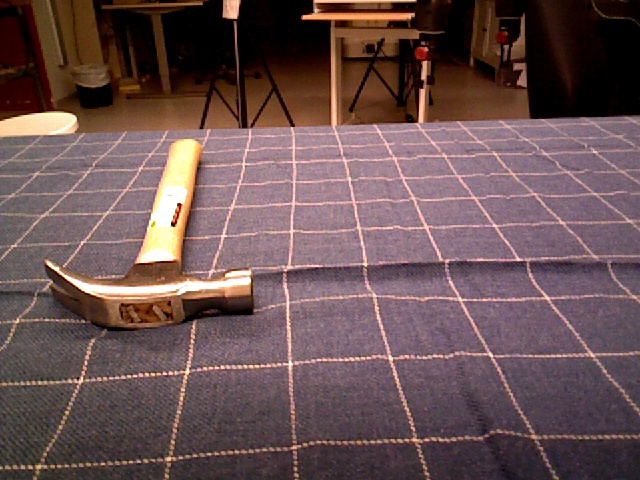hammer1: (42, 140, 254, 331)
